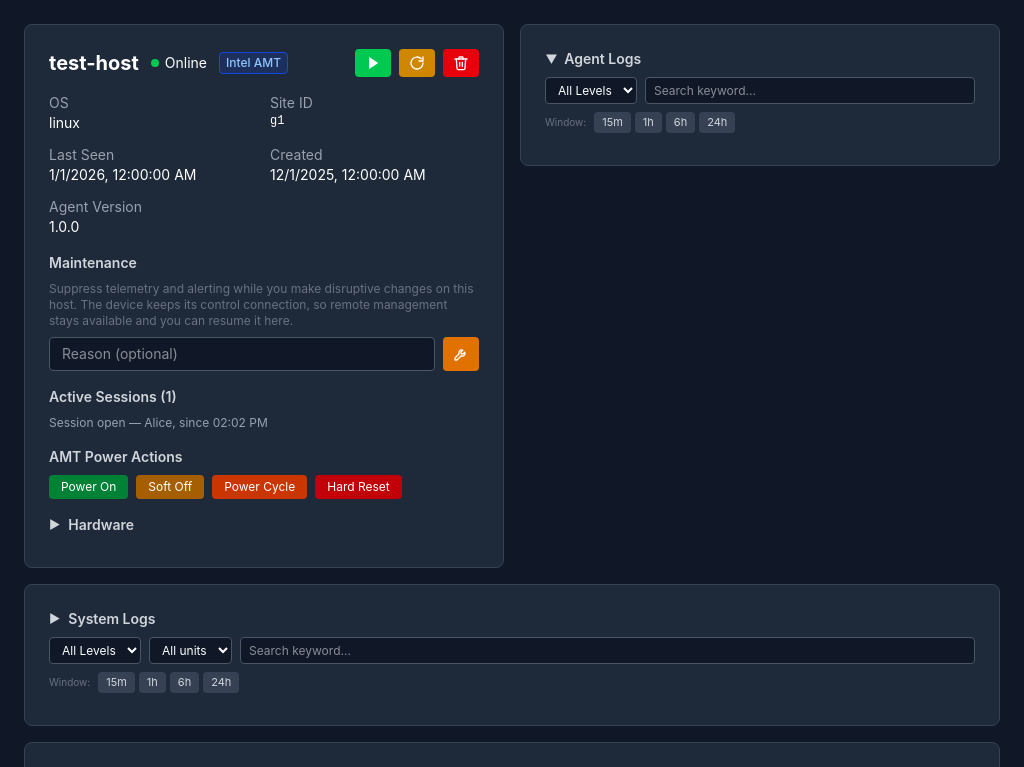
it: DeviceDetail — power and Intel AMT › Confirm cycle/reset button label collapses back when a non-destructive action runs
The width and height of the screenshot is (1024, 767).
What coordinates should you click on to do the following:
click the button "Power Cycle"
I would click on:
 (260, 487)
Its box is [212, 475, 307, 499].
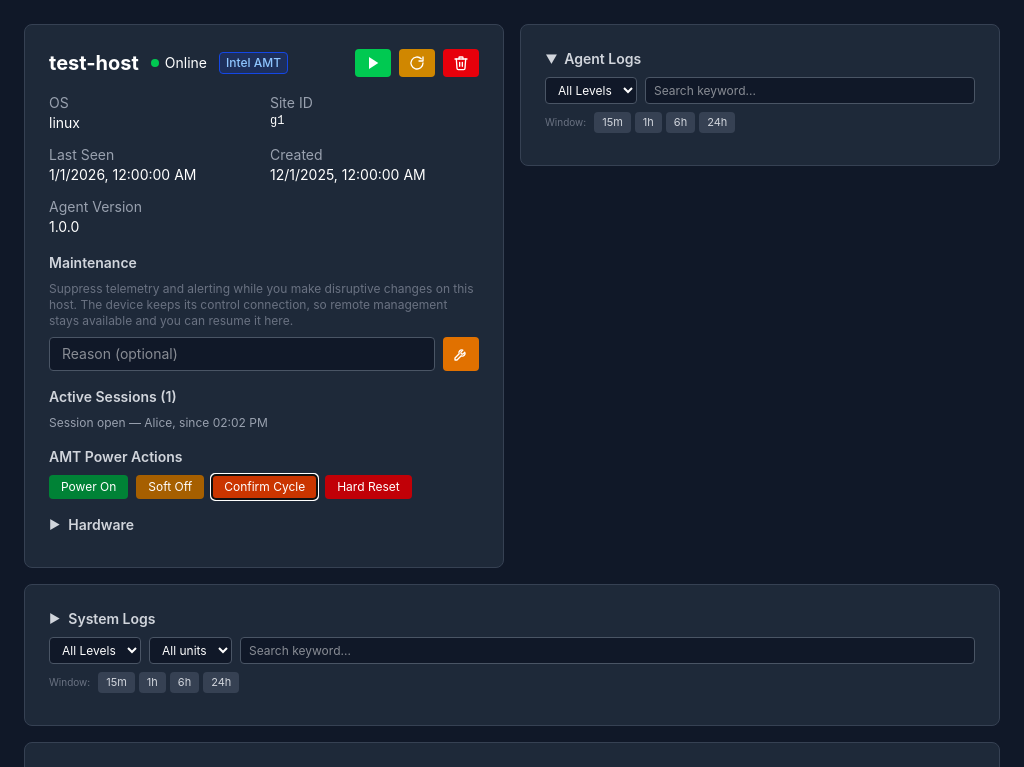
Check: the button "Confirm Cycle" is shown, box [212, 475, 317, 499]
What coordinates should you click on to do the following:
click the button "Hard Reset"
I would click on:
 (368, 487)
Its box is [325, 475, 412, 499].
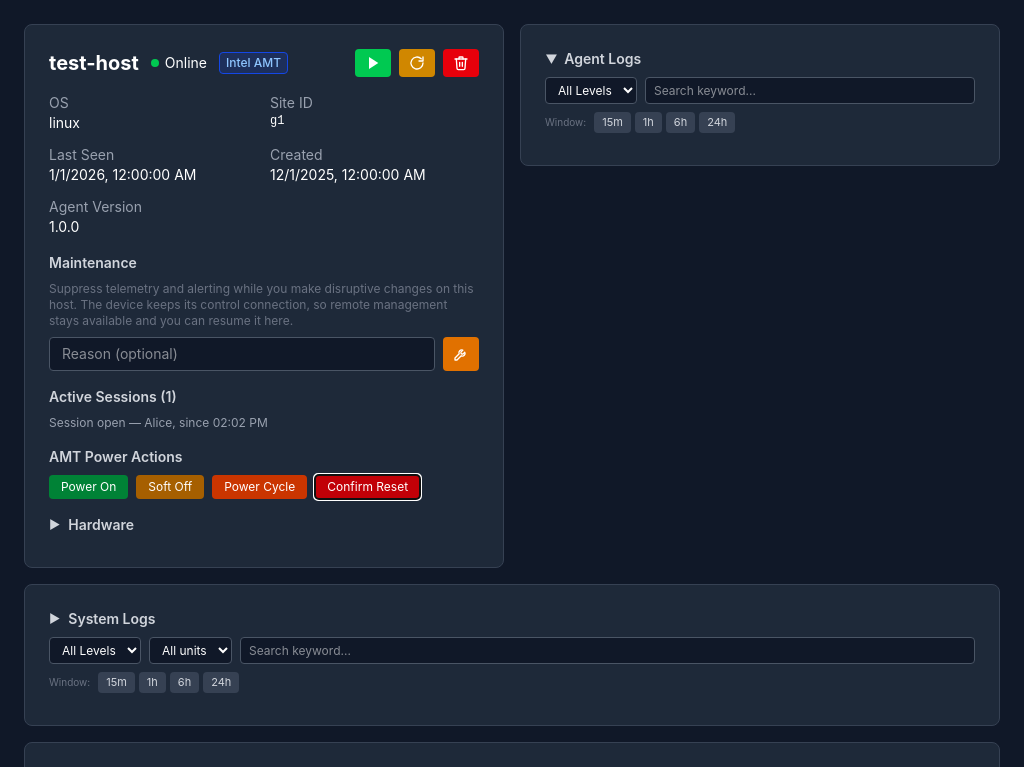
Check: the button "Confirm Reset" is shown, box [315, 475, 420, 499]
Check: the button "Power Cycle" is shown, box [212, 475, 307, 499]
